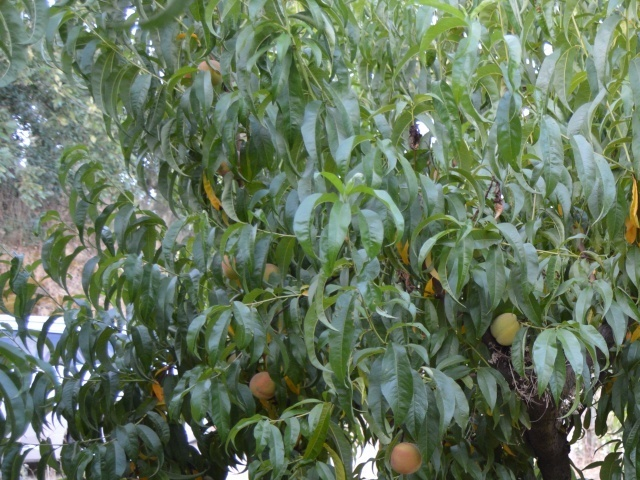peach: (487, 307, 524, 349), (387, 439, 426, 478), (246, 368, 280, 402), (195, 54, 227, 84)
